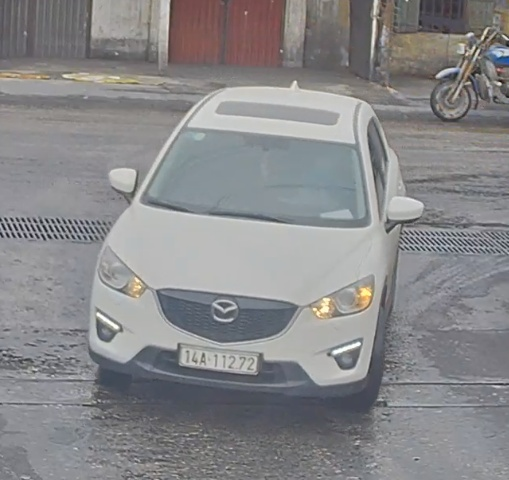vehicle plate: (171, 337, 268, 378)
